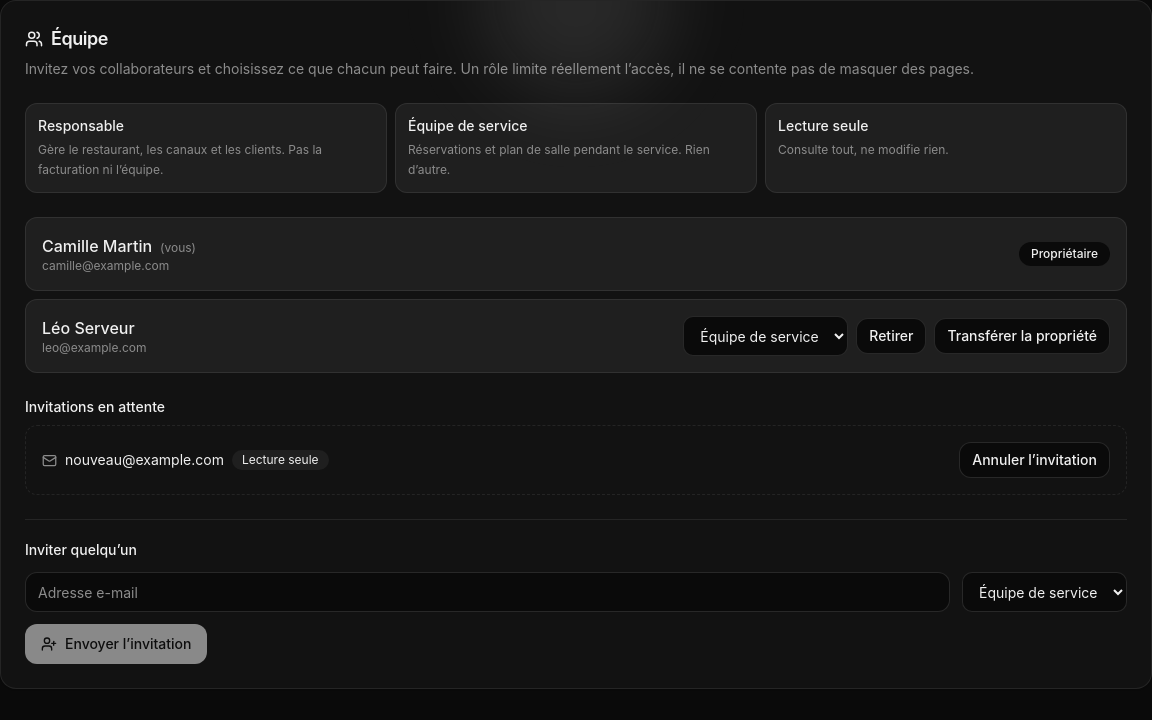
Test: change le rôle d’un membre
The image size is (1152, 720).
Expected: the text "Léo Serveur" is shown, [42,316,146,340]
Select "Responsable" in the dropdown named "Rôle de Léo Serveur" at coordinates (766, 336), box [683,316,848,356]
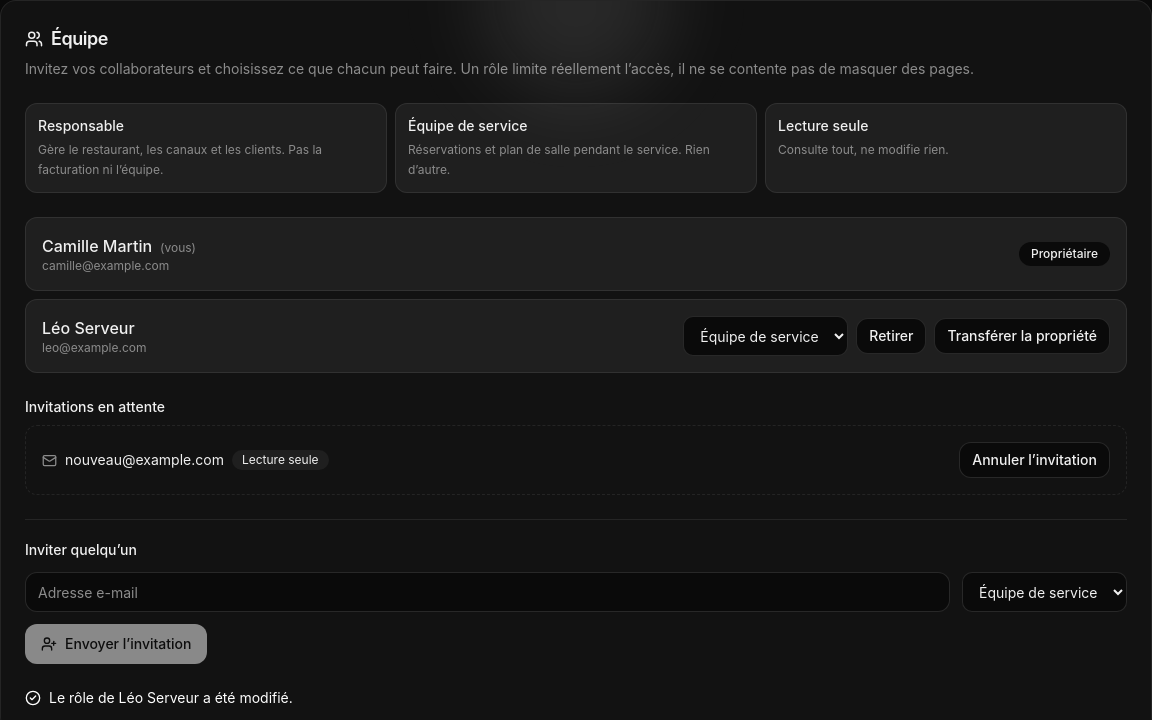
Now the text "Le rôle de Léo Serveur a été modifié." is shown, box [25,689,293,706]
